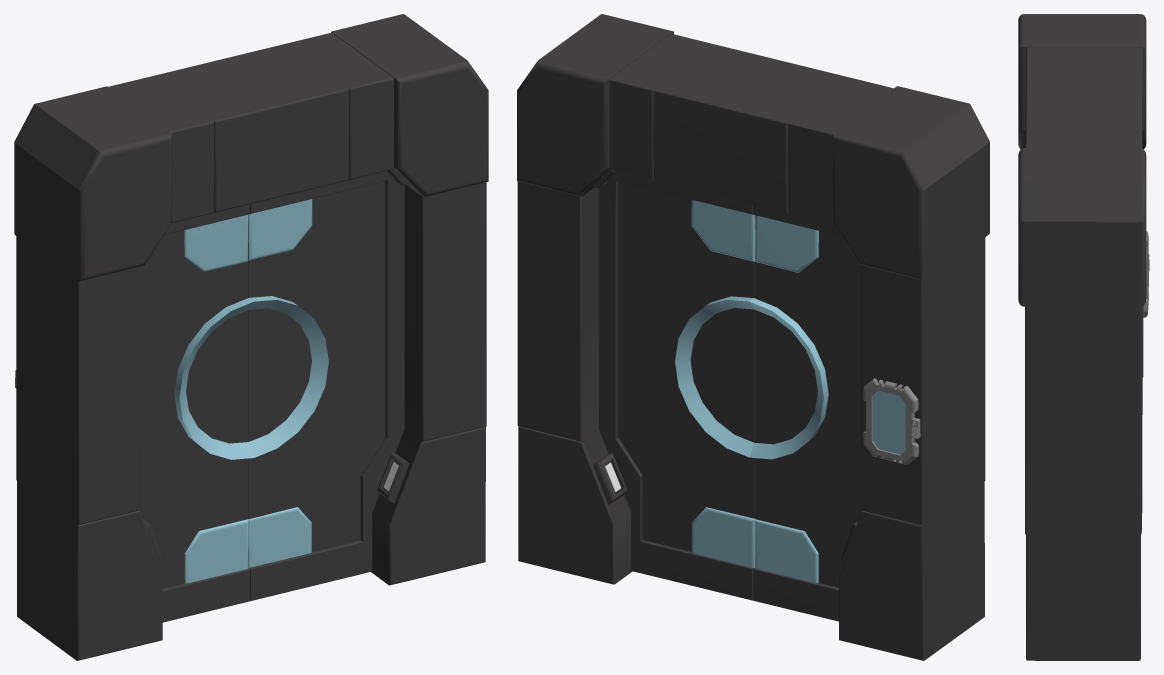
Rendered from Gate 1.fbx.
The picture shows the model from 3 angles, left to right: view 1: azimuth 30°, elevation 25°; view 2: azimuth 150°, elevation 25°; view 3: azimuth 270°, elevation 25°; orthographic projection. The views are drawn at different scales.
Visible parts, largest first — view 1: body, left_half, right_half, pCube22, pCube18, pCube13; view 2: body, left_half, right_half, pCube22, pCube18, pCube6, pCube12; view 3: body, pCube18, pCube22, pCube6.
Boxes of the visible parts, box(x1,y1,x2,y2) form: body: box(16, 32, 486, 660); left_half: box(248, 171, 404, 601); right_half: box(140, 204, 253, 622); pCube22: box(14, 86, 171, 281); pCube18: box(331, 14, 488, 197); pCube13: box(377, 452, 409, 503); body: box(517, 34, 985, 660); left_half: box(599, 172, 755, 600); right_half: box(749, 205, 861, 621); pCube22: box(833, 86, 989, 280); pCube18: box(517, 14, 673, 196); pCube6: box(863, 378, 920, 464); pCube12: box(593, 453, 627, 504); body: box(1025, 47, 1143, 660); pCube18: box(1018, 148, 1146, 306); pCube22: box(1018, 14, 1146, 149); pCube6: box(1143, 231, 1149, 317).
Bounding box in the file's own units: 9.62 × 11.39 × 2.88.
